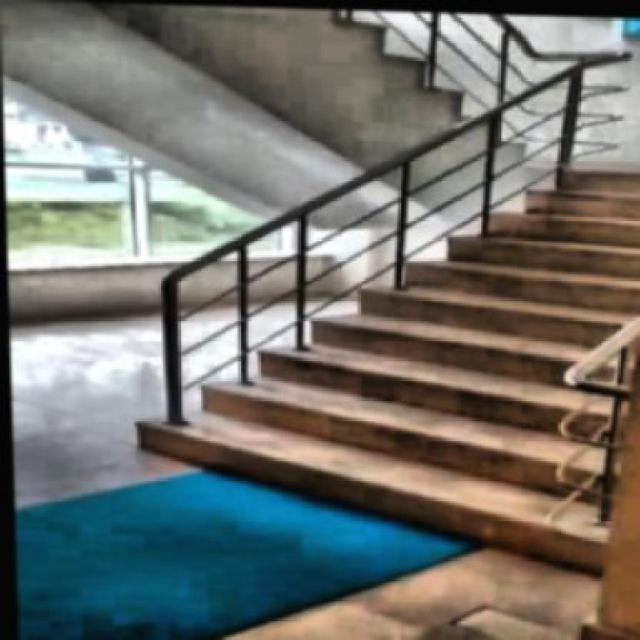stair: (97, 97, 638, 575)
